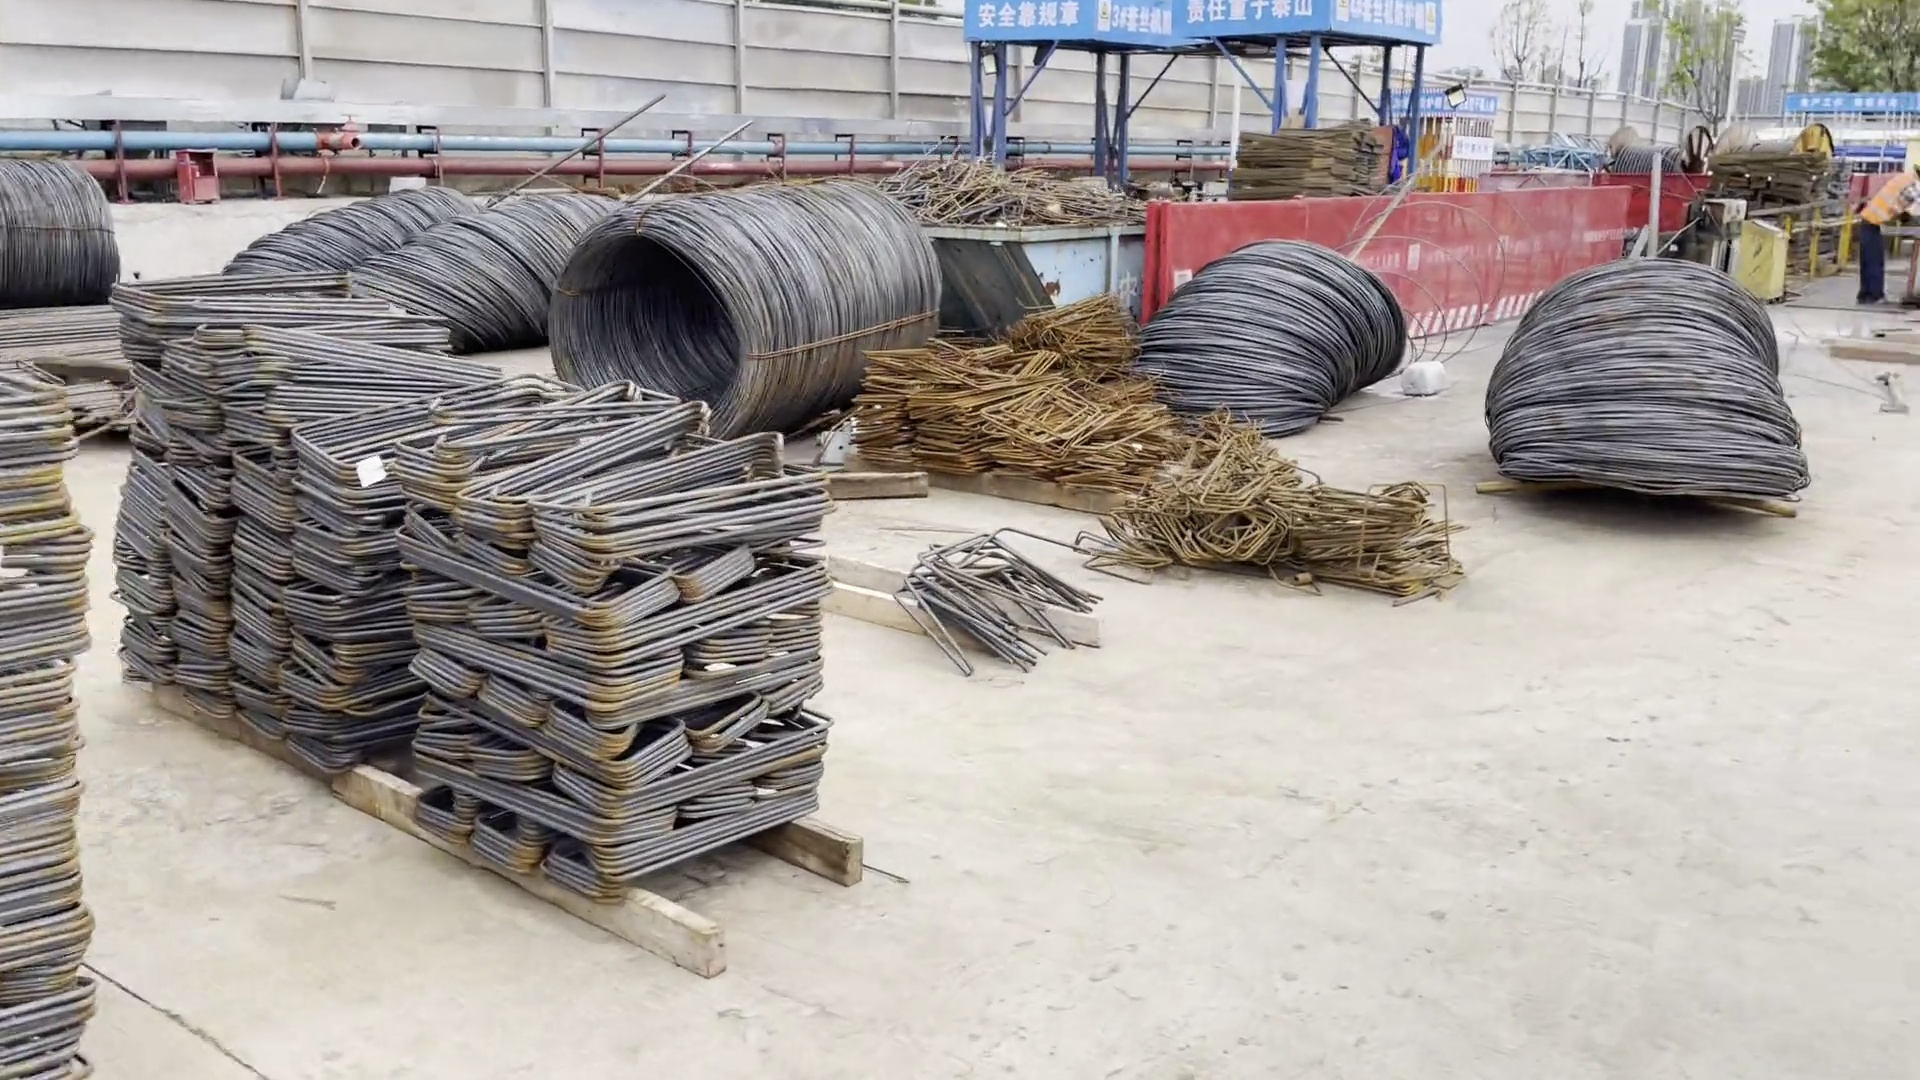ebox: (1726, 212, 1795, 300)
fence: (1131, 184, 1641, 341), (1595, 174, 1708, 246)
hopper: (923, 212, 1144, 328)
person: (1846, 134, 1920, 346)
rebar: (3, 297, 135, 391)
slogan: (929, 1, 1468, 65), (1379, 74, 1506, 135), (1777, 78, 1920, 126)
vest: (1852, 164, 1920, 256)
